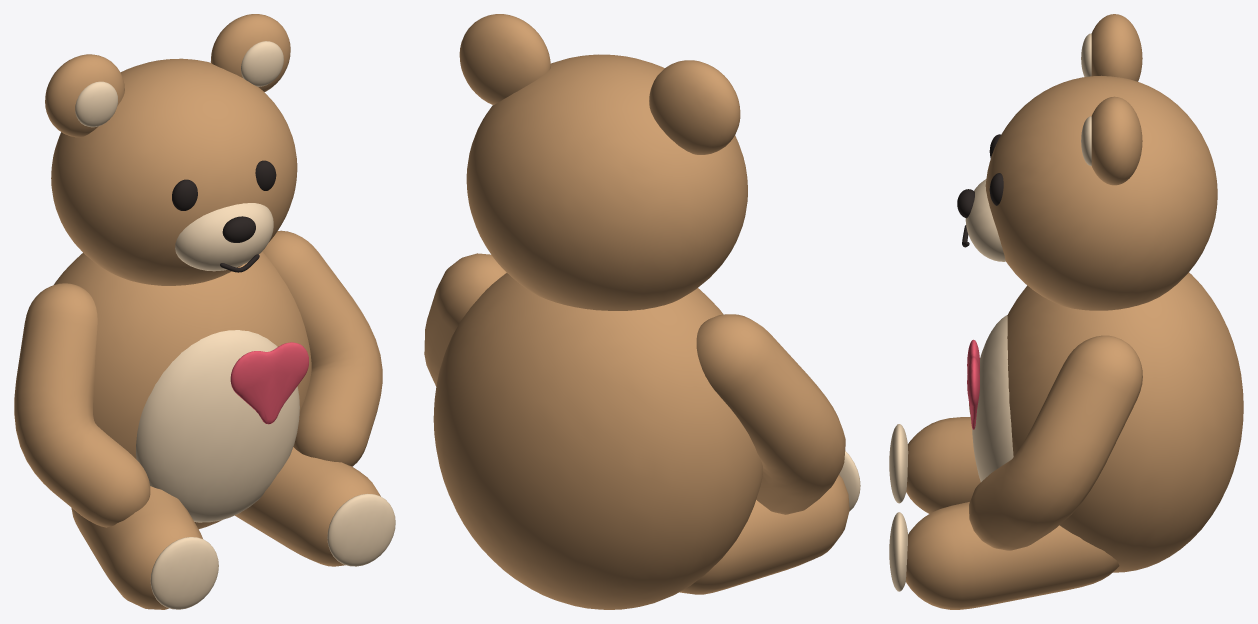
File: deco_osito.glb
3 renders of one model, left to right at view 1: azimuth 30°, elevation 25°; view 2: azimuth 150°, elevation 25°; view 3: azimuth 270°, elevation 25°, orthographic. The views are drawn at different scales.
Visible parts, largest first — view 1: cabeza osito, panza osito, barriga osito, brazo osito, brazo osito.001, pierna osito.001, pierna osito, hocico osito, corazón osito, planta pata.001, planta pata, oreja osito (+6 smaller); view 2: panza osito, cabeza osito, brazo osito, pierna osito, oreja osito, oreja osito.001, brazo osito.001, planta pata; view 3: panza osito, cabeza osito, brazo osito.001, pierna osito.001, pierna osito, barriga osito, oreja osito.001, oreja osito, hocico osito, planta pata, planta pata.001, corazón osito.
Part boxes in pixels (x1=…): cabeza osito: x1=51, y1=58, x2=297, y2=285; panza osito: x1=54, y1=251, x2=311, y2=529; barriga osito: x1=136, y1=330, x2=299, y2=522; brazo osito: x1=14, y1=283, x2=150, y2=527; brazo osito.001: x1=262, y1=230, x2=382, y2=466; pierna osito.001: x1=235, y1=447, x2=380, y2=566; pierna osito: x1=71, y1=486, x2=202, y2=609; hocico osito: x1=175, y1=203, x2=273, y2=271; corazón osito: x1=230, y1=342, x2=308, y2=424; planta pata.001: x1=327, y1=493, x2=395, y2=566; planta pata: x1=150, y1=537, x2=218, y2=609; oreja osito: x1=45, y1=54, x2=124, y2=137; panza osito: x1=433, y1=273, x2=762, y2=609; cabeza osito: x1=466, y1=54, x2=747, y2=310; brazo osito: x1=696, y1=314, x2=845, y2=514; pierna osito: x1=679, y1=474, x2=849, y2=594; oreja osito: x1=649, y1=60, x2=740, y2=154; oreja osito.001: x1=459, y1=14, x2=550, y2=105; brazo osito.001: x1=424, y1=253, x2=506, y2=386; planta pata: x1=839, y1=451, x2=860, y2=511; panza osito: x1=1007, y1=272, x2=1243, y2=572; cabeza osito: x1=985, y1=75, x2=1217, y2=310; brazo osito.001: x1=969, y1=335, x2=1142, y2=550; pierna osito.001: x1=906, y1=502, x2=1119, y2=609; pierna osito: x1=906, y1=416, x2=980, y2=513; barriga osito: x1=972, y1=315, x2=1013, y2=481; oreja osito.001: x1=1091, y1=96, x2=1142, y2=185; oreja osito: x1=1091, y1=14, x2=1142, y2=81; hocico osito: x1=965, y1=179, x2=1005, y2=261; planta pata: x1=889, y1=424, x2=908, y2=503; planta pata.001: x1=889, y1=512, x2=907, y2=591; corazón osito: x1=967, y1=339, x2=979, y2=429.
Size of the model in its own units: 0.3188 by 0.424 by 0.2716.
